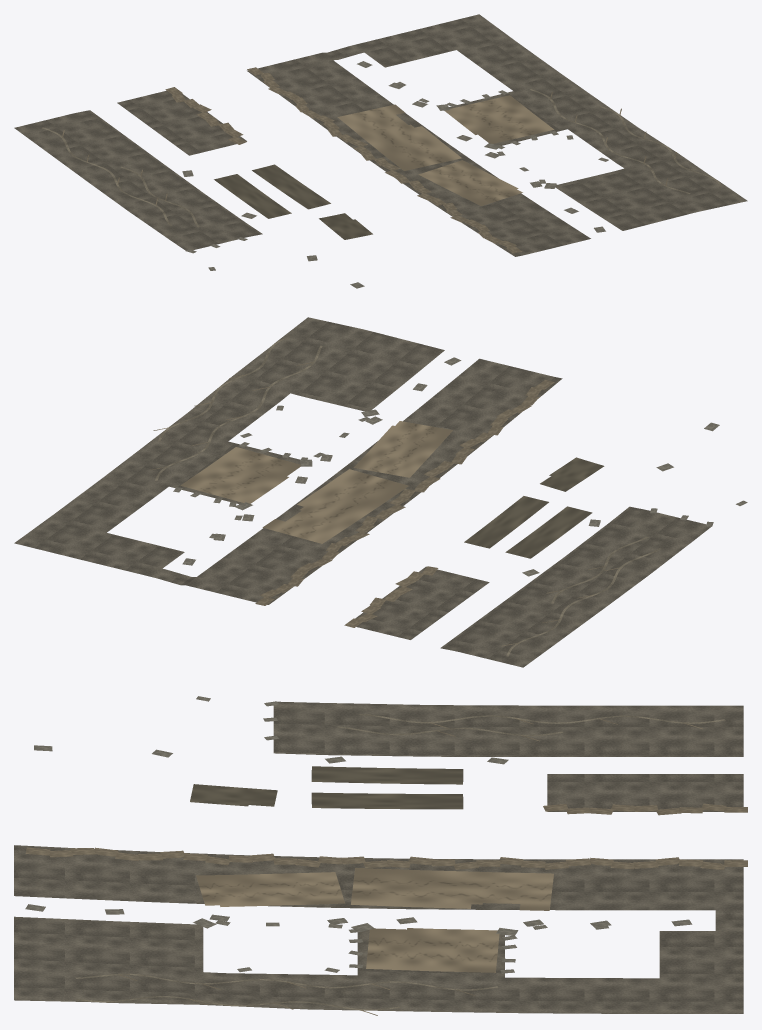
Rendered from SM_Caliche_Surface.fbx.
3 renders of one model, top to bottom at view 1: azimuth 30°, elevation 25°; view 2: azimuth 150°, elevation 25°; view 3: azimuth 270°, elevation 25°, orthographic. The views are drawn at different scales.
Parts seen in each view (by area): view 1: SM_Caliche_Surface; view 2: SM_Caliche_Surface; view 3: SM_Caliche_Surface.
Boxes of the visible parts, box(x1,y1,x2,y2) form: SM_Caliche_Surface: box(14, 14, 747, 288); SM_Caliche_Surface: box(14, 317, 747, 667); SM_Caliche_Surface: box(14, 696, 747, 1015).
Bounding box in the file's own units: 69.19 × 67.8 × 1.71.
